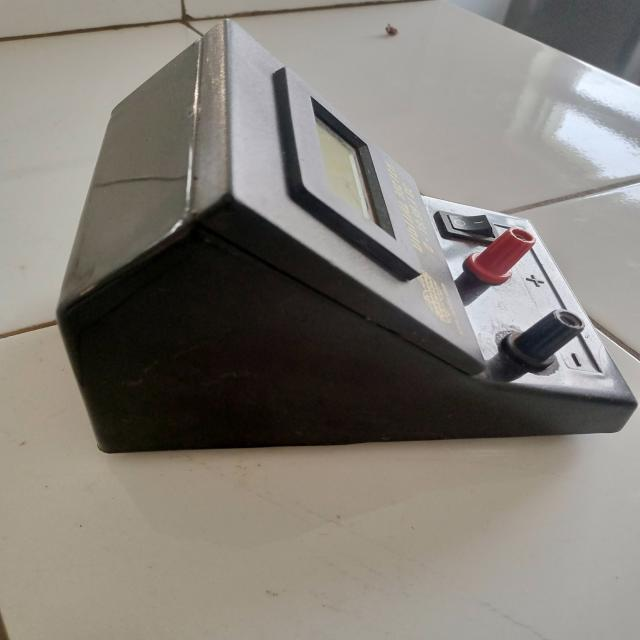Digital Ammeter: (54, 9, 637, 461)
